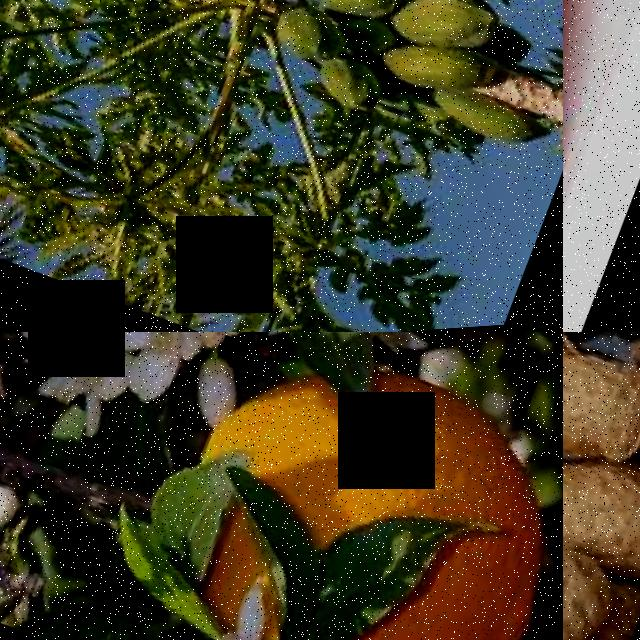orange: (121, 332, 563, 640), (563, 0, 597, 332), (563, 0, 623, 103)
pawpaw: (376, 24, 505, 122), (417, 85, 540, 165), (253, 0, 349, 77), (400, 0, 505, 67), (304, 52, 388, 126), (316, 0, 405, 37)
peanuts: (563, 332, 640, 505), (563, 438, 640, 603), (563, 523, 619, 640)
